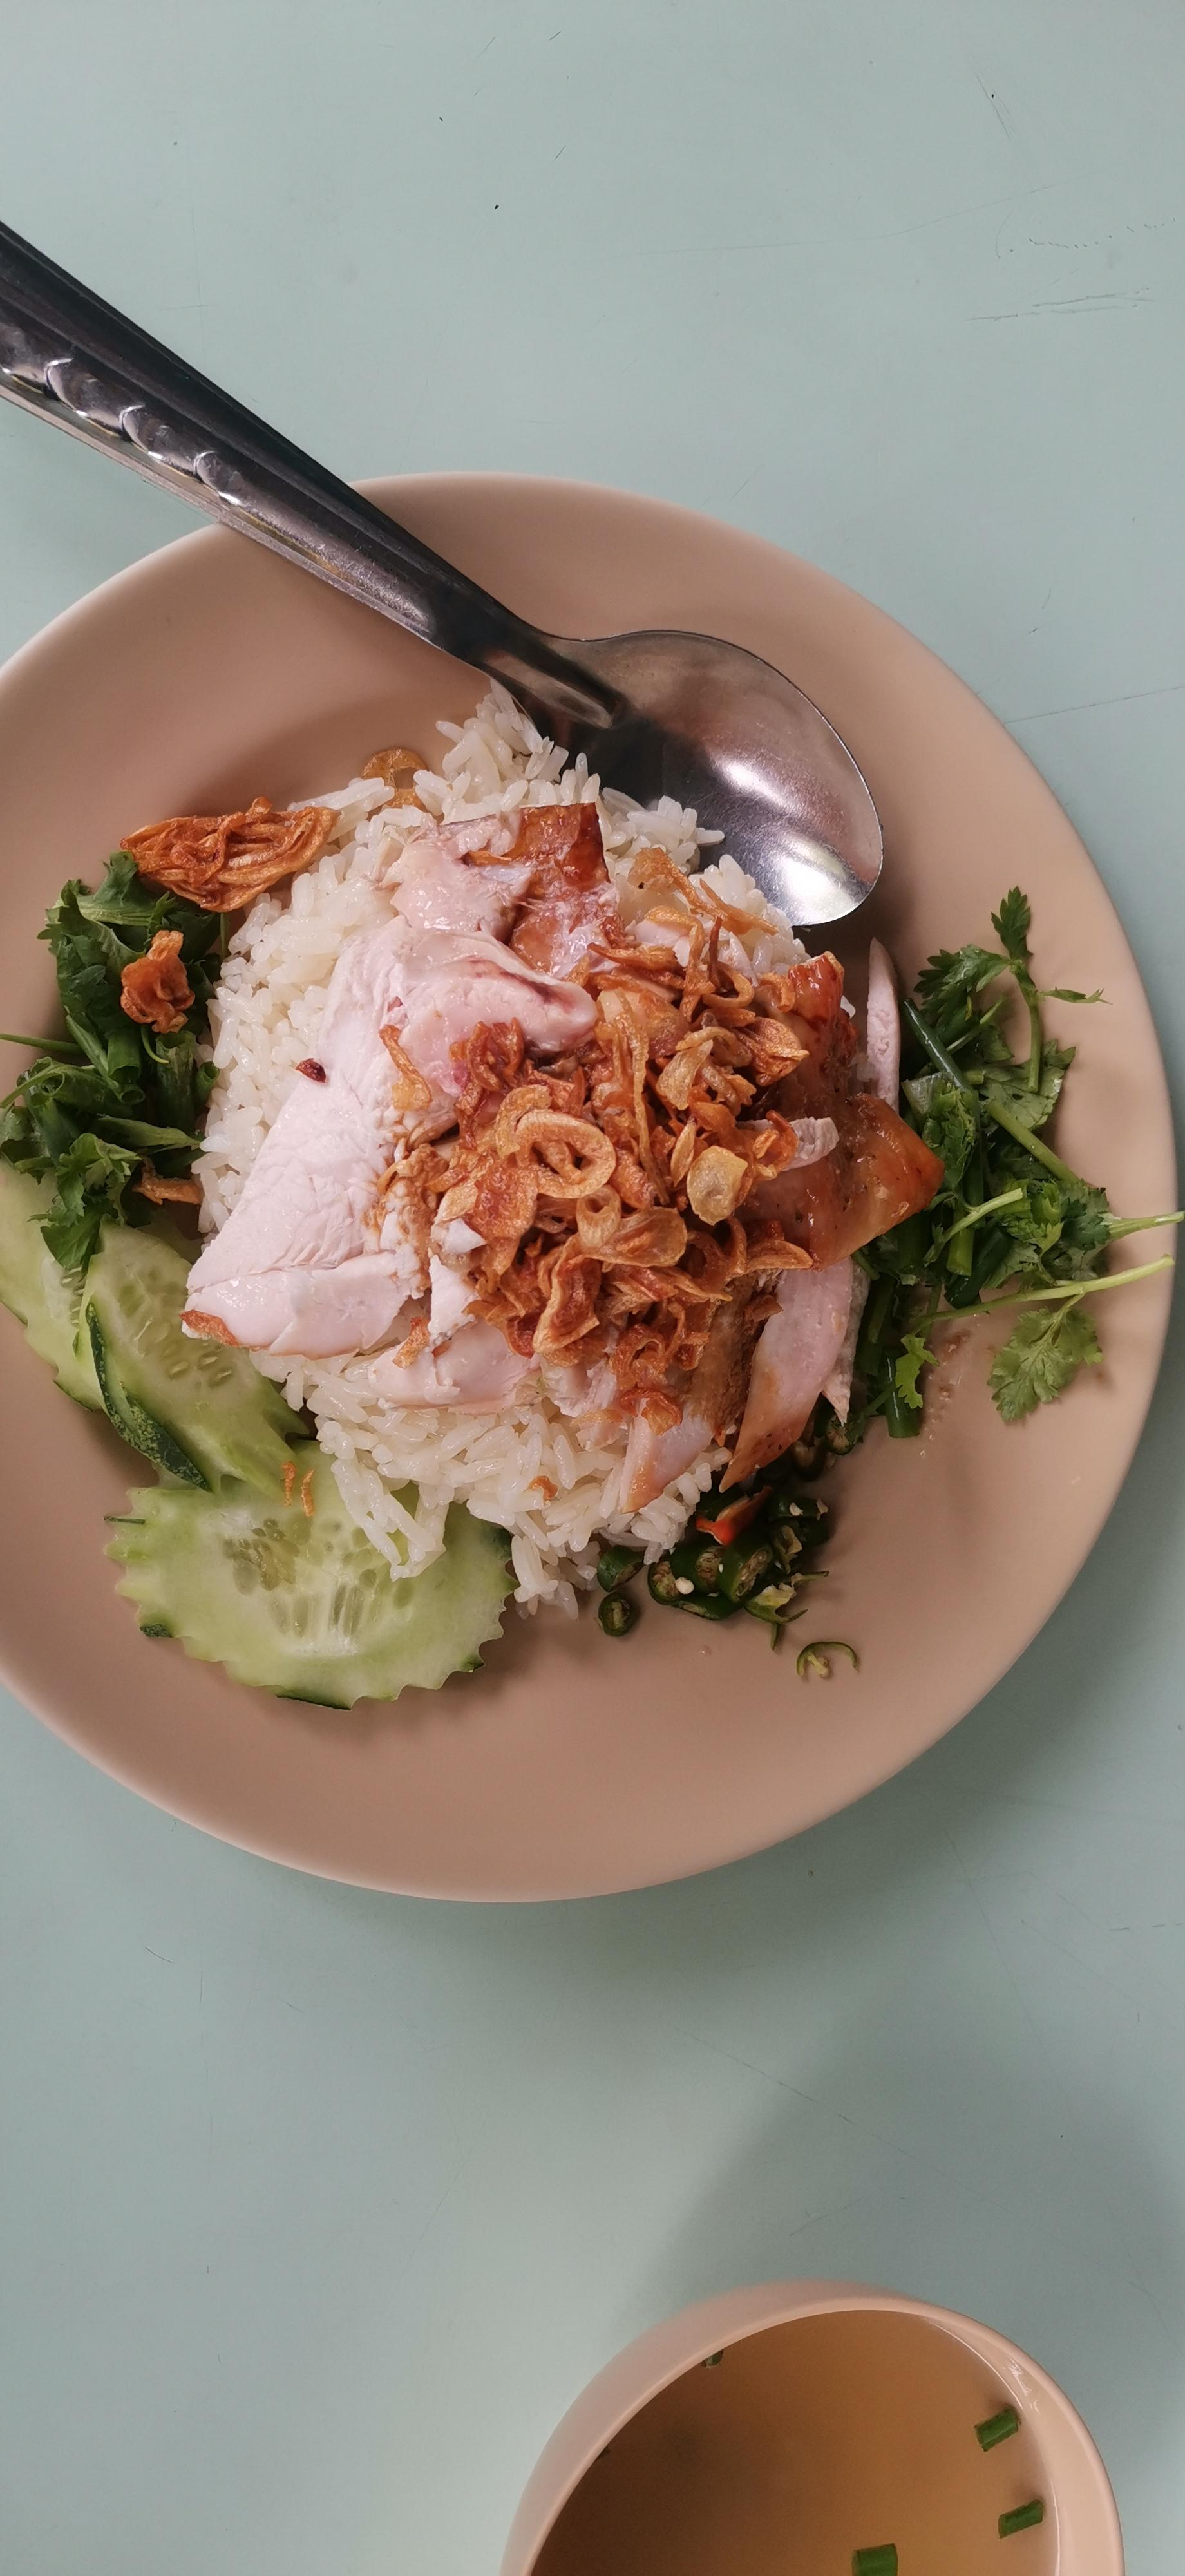carbohydrate: (222, 701, 513, 1066), (309, 1372, 667, 1594)
meat: (225, 821, 917, 1405)
vegetable: (3, 1184, 521, 1710), (869, 905, 1178, 1413), (20, 866, 232, 1194), (611, 1452, 863, 1677)
